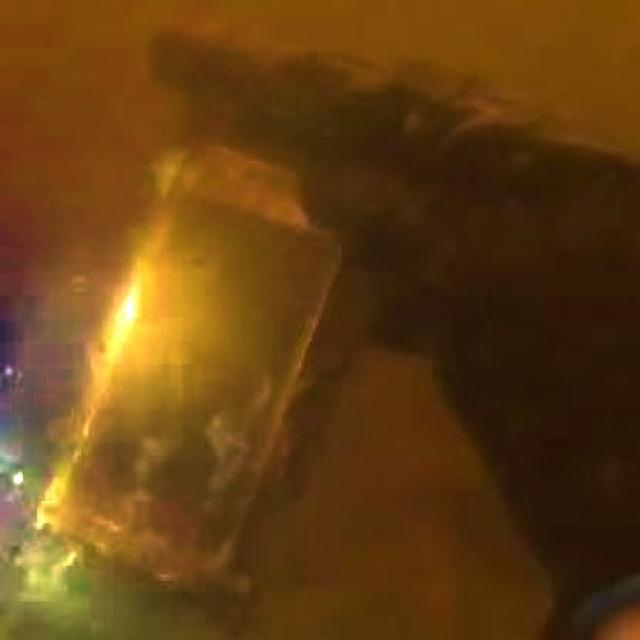cellphone: (60, 148, 345, 597)
